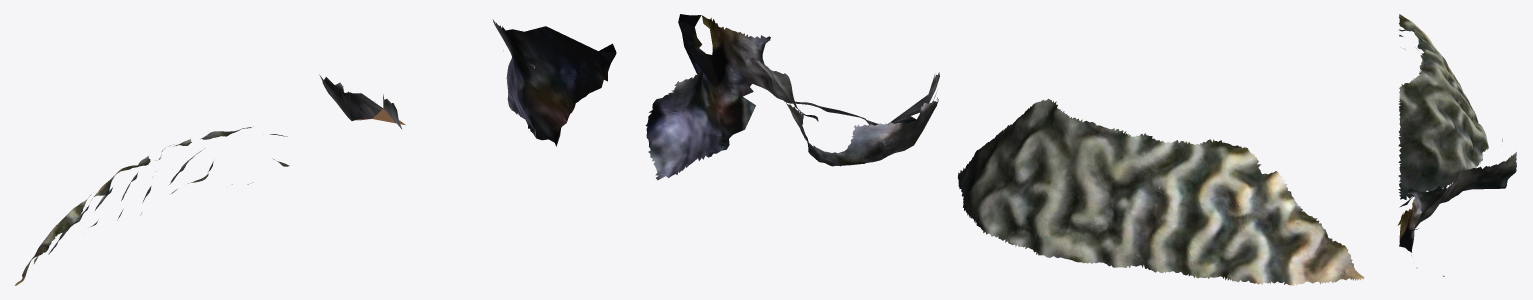
Rendered from tile_0095.gltf.
3 renders of one model, left to right at view 1: azimuth 30°, elevation 25°; view 2: azimuth 150°, elevation 25°; view 3: azimuth 270°, elevation 25°, orthographic. The views are drawn at different scales.
Parts seen in each view (by area): view 1: defaultobject; view 2: defaultobject; view 3: defaultobject.
Boxes of the visible parts, box(x1,y1,x2,y2) form: defaultobject: box(14, 19, 616, 285); defaultobject: box(645, 14, 1364, 285); defaultobject: box(1397, 14, 1516, 276).
Size of the model in its own units: 1.03 by 0.1605 by 0.2127.
Materials: 1 (1 with a texture image).
